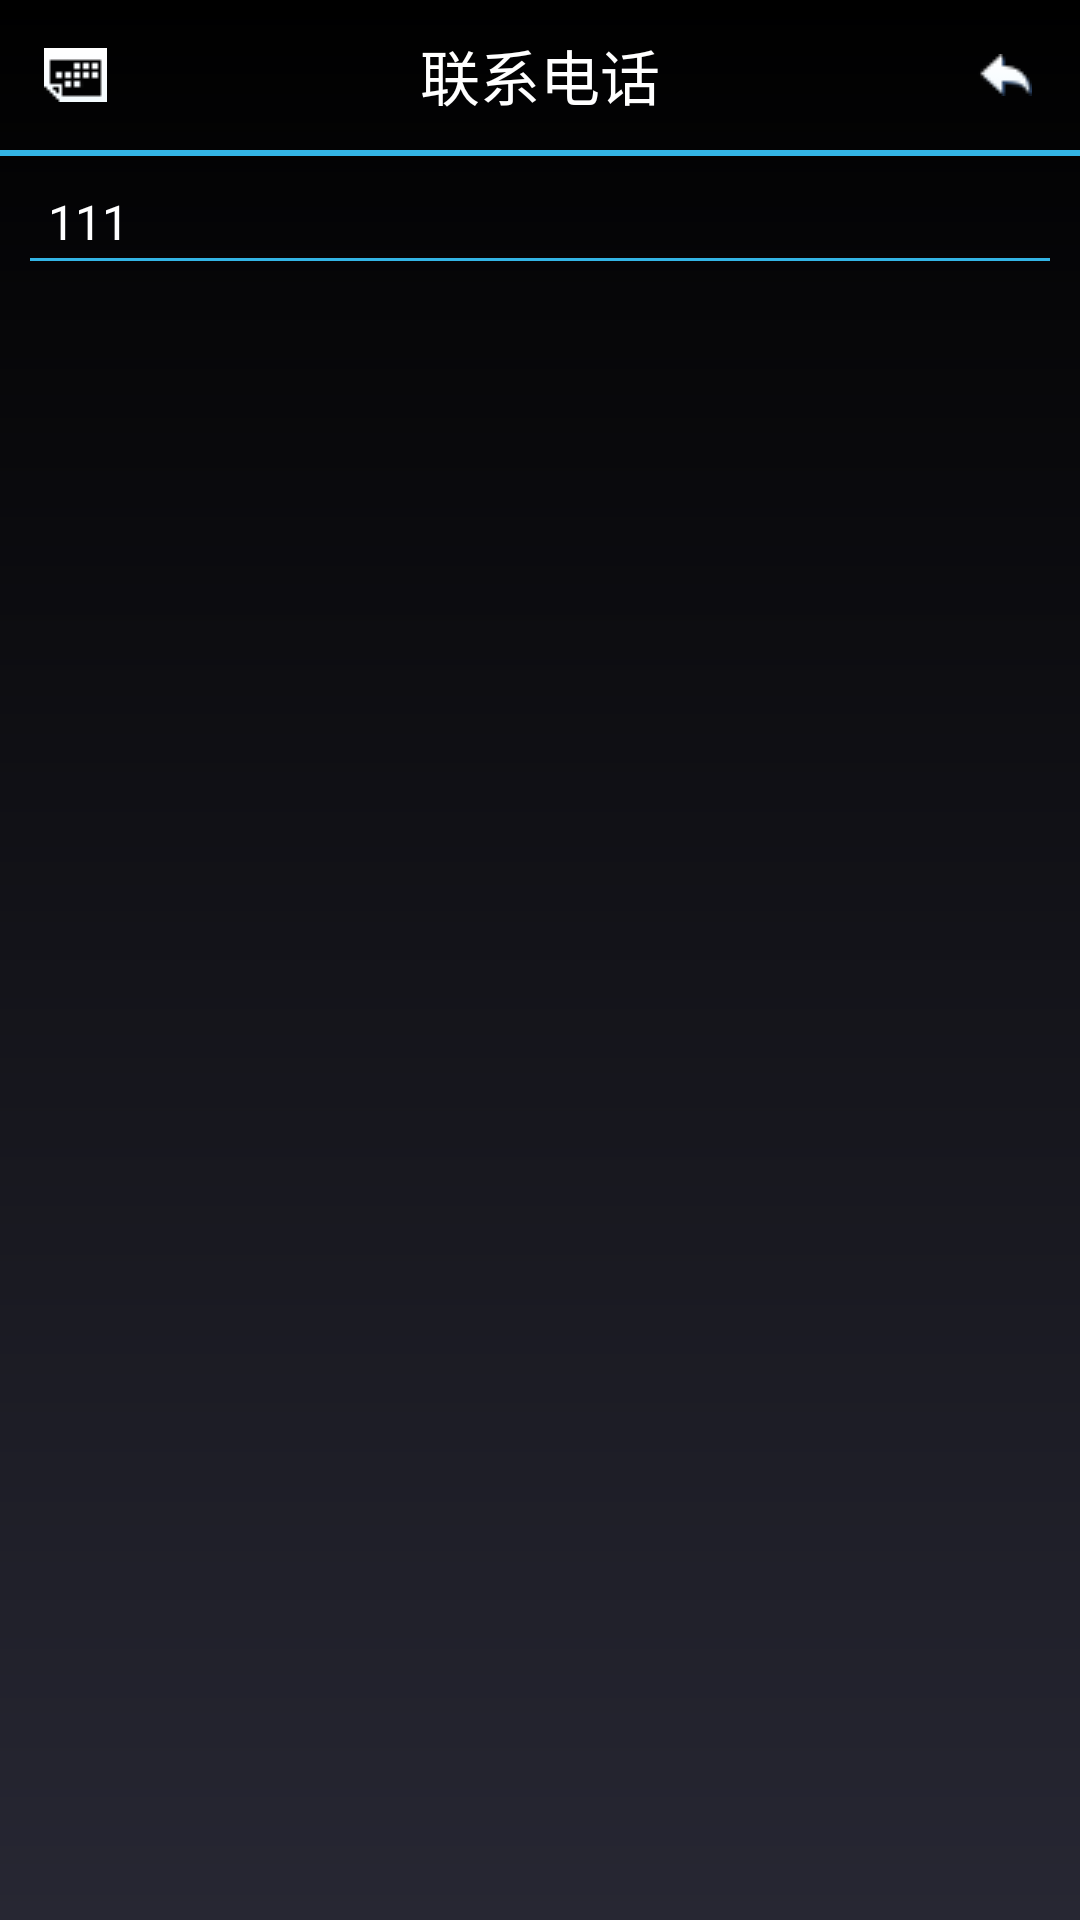

Where icons sit on this 1080 × 1920 app screen, as detection(x1, y1, x2, y2):
back: detection(980, 54, 1032, 96)
